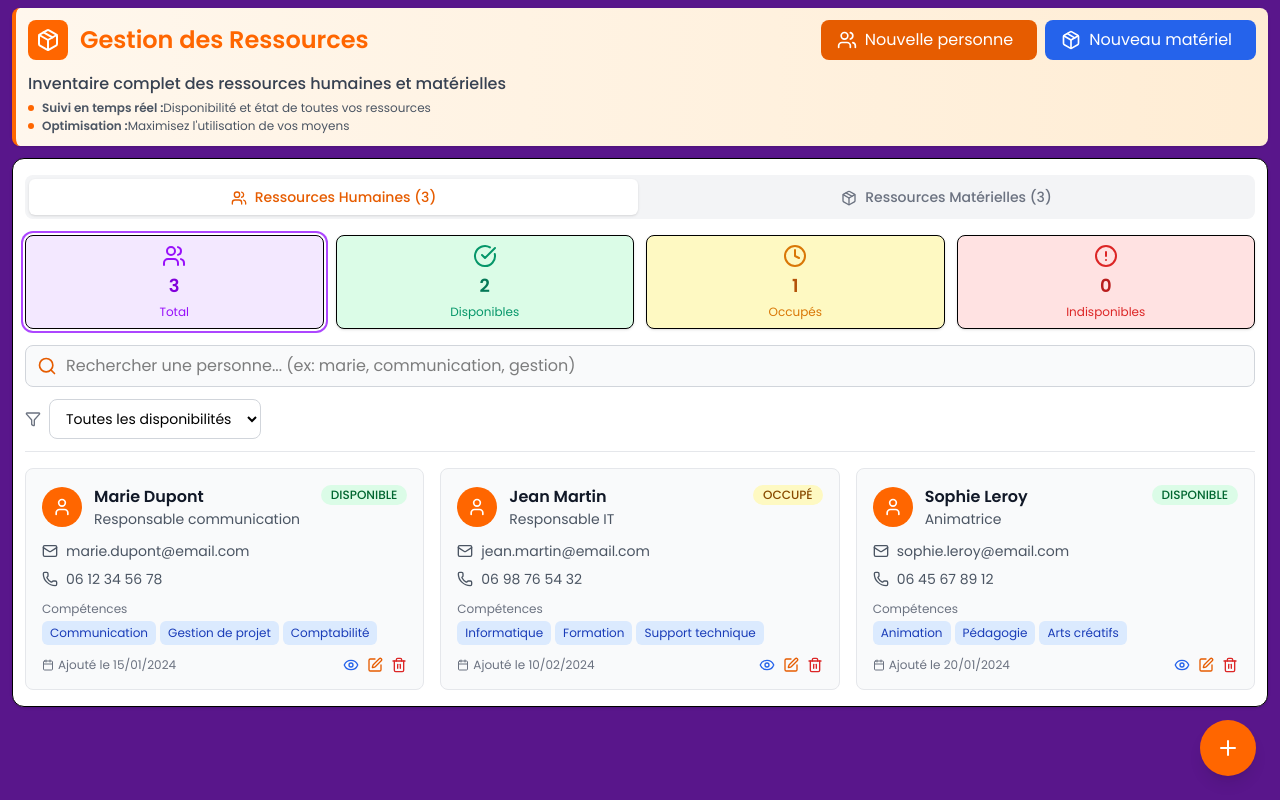
Scenario: ResourcesPage › should support advanced keyword search for human resources
// Test simple search that should work
Replace the text in the field with placeholder "Rechercher une personne" with "marie". click: (640, 366)
box: 25,345 -> 1255,387
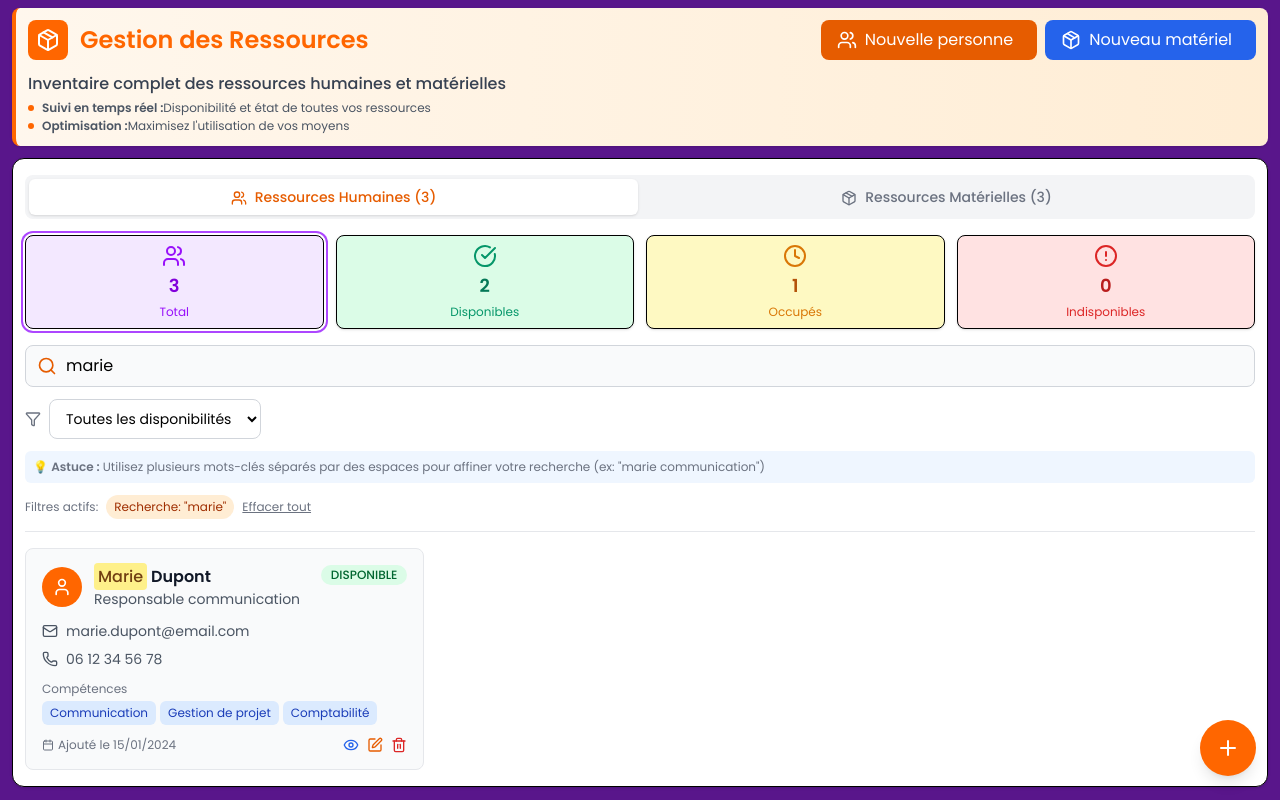
Expected: the text "Recherche: \"marie\"" is shown, 106,495 -> 234,519
